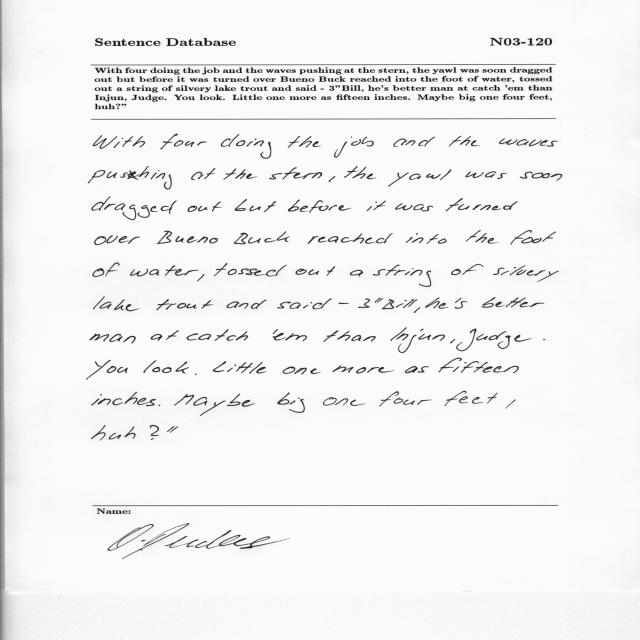word: (88, 166, 172, 190), (92, 197, 177, 220), (174, 394, 255, 416), (456, 329, 532, 352), (390, 328, 445, 353), (373, 264, 431, 287), (221, 134, 271, 159), (439, 358, 519, 373), (389, 169, 452, 187), (493, 266, 559, 283), (214, 263, 287, 276), (446, 199, 518, 212), (308, 233, 393, 244), (288, 199, 352, 213), (92, 392, 156, 406), (334, 136, 374, 158), (87, 360, 128, 380), (379, 392, 432, 407), (445, 391, 498, 406), (157, 231, 218, 244), (130, 266, 199, 277), (187, 329, 248, 341), (94, 135, 146, 149), (234, 232, 290, 245), (160, 134, 207, 149), (213, 361, 267, 374), (510, 230, 556, 245), (482, 297, 544, 308), (92, 425, 136, 440), (94, 297, 140, 311), (269, 168, 322, 180), (323, 330, 376, 342), (156, 299, 213, 310), (277, 299, 332, 310), (143, 361, 189, 374), (277, 392, 305, 413), (235, 199, 277, 212), (499, 138, 558, 147), (333, 366, 395, 374), (90, 334, 136, 344), (406, 233, 447, 244), (95, 235, 140, 245), (344, 166, 377, 179), (466, 231, 499, 244), (393, 137, 435, 147), (273, 329, 307, 341), (288, 136, 321, 148), (296, 266, 335, 276), (323, 397, 366, 406), (520, 172, 562, 181), (93, 263, 120, 277), (224, 169, 258, 180), (451, 264, 484, 275), (227, 300, 267, 309), (187, 202, 222, 212), (382, 299, 417, 309), (449, 136, 480, 147), (465, 171, 507, 179), (150, 330, 179, 341), (395, 204, 433, 212), (283, 367, 321, 375), (191, 168, 215, 180), (425, 297, 448, 309), (358, 297, 383, 308), (367, 201, 386, 211), (405, 366, 429, 373), (150, 425, 159, 440), (455, 298, 467, 309), (506, 399, 516, 409), (350, 270, 363, 276), (167, 426, 178, 433), (197, 274, 204, 282), (329, 176, 335, 182), (414, 307, 420, 313), (450, 339, 455, 343), (339, 303, 349, 304), (543, 339, 545, 340), (195, 374, 197, 375), (159, 405, 161, 406)
